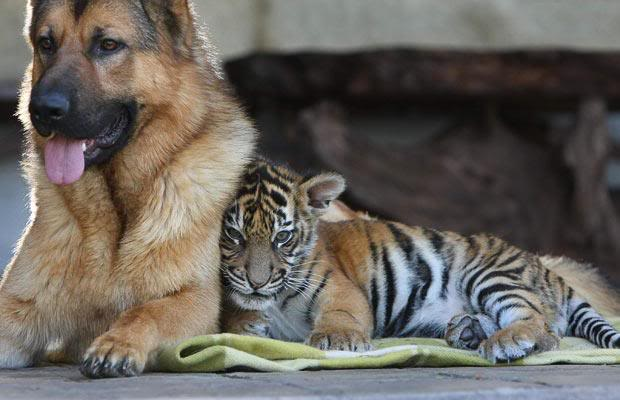dog: (7, 2, 247, 378)
tiger: (215, 136, 595, 358)
